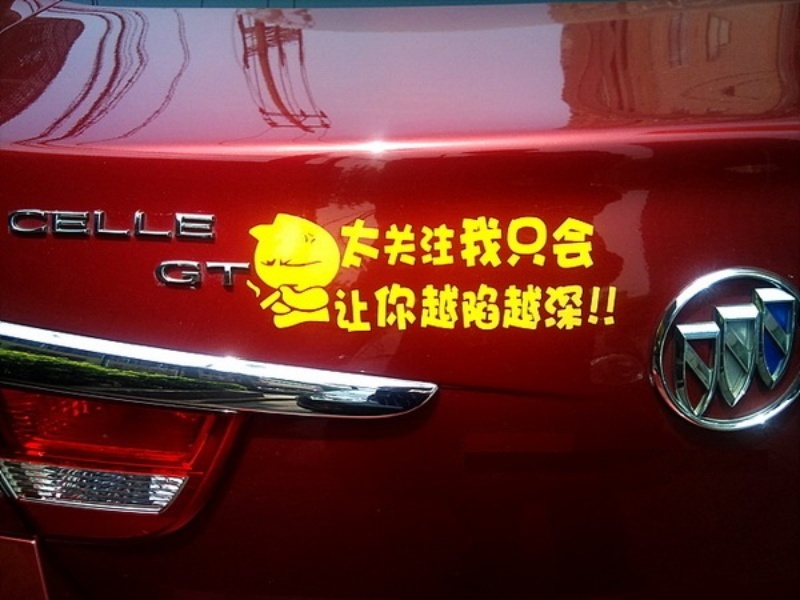text: (337, 214, 352, 270), (353, 214, 368, 270), (369, 214, 384, 270), (385, 214, 400, 270), (401, 214, 416, 270), (417, 214, 432, 270), (433, 214, 448, 270), (449, 214, 464, 270), (465, 214, 480, 270), (481, 214, 496, 270), (497, 214, 512, 270), (513, 214, 528, 270), (529, 214, 544, 270), (545, 214, 560, 270), (561, 214, 576, 270), (577, 214, 592, 270), (337, 283, 352, 337), (353, 283, 368, 337), (369, 283, 384, 337), (385, 283, 400, 337), (401, 283, 416, 337), (417, 283, 432, 337), (433, 283, 448, 337), (449, 283, 464, 337), (465, 283, 480, 337), (481, 283, 496, 337), (497, 283, 512, 337), (513, 283, 528, 337), (529, 283, 544, 337), (545, 283, 560, 337), (561, 283, 576, 337), (577, 283, 592, 337), (593, 283, 608, 337), (609, 283, 622, 337), (17, 206, 32, 249), (33, 206, 48, 249), (49, 206, 64, 249), (65, 206, 80, 249), (81, 206, 96, 249), (97, 206, 112, 249), (113, 206, 128, 249), (129, 206, 144, 249), (145, 206, 160, 249), (161, 206, 176, 249), (177, 206, 192, 249), (193, 206, 208, 249), (161, 255, 176, 294), (177, 255, 192, 294), (193, 255, 208, 294), (209, 255, 224, 294), (225, 255, 240, 294), (241, 255, 251, 294), (209, 206, 218, 249), (593, 214, 598, 270), (331, 283, 336, 337), (10, 206, 16, 249), (154, 255, 160, 294), (335, 214, 336, 270)
